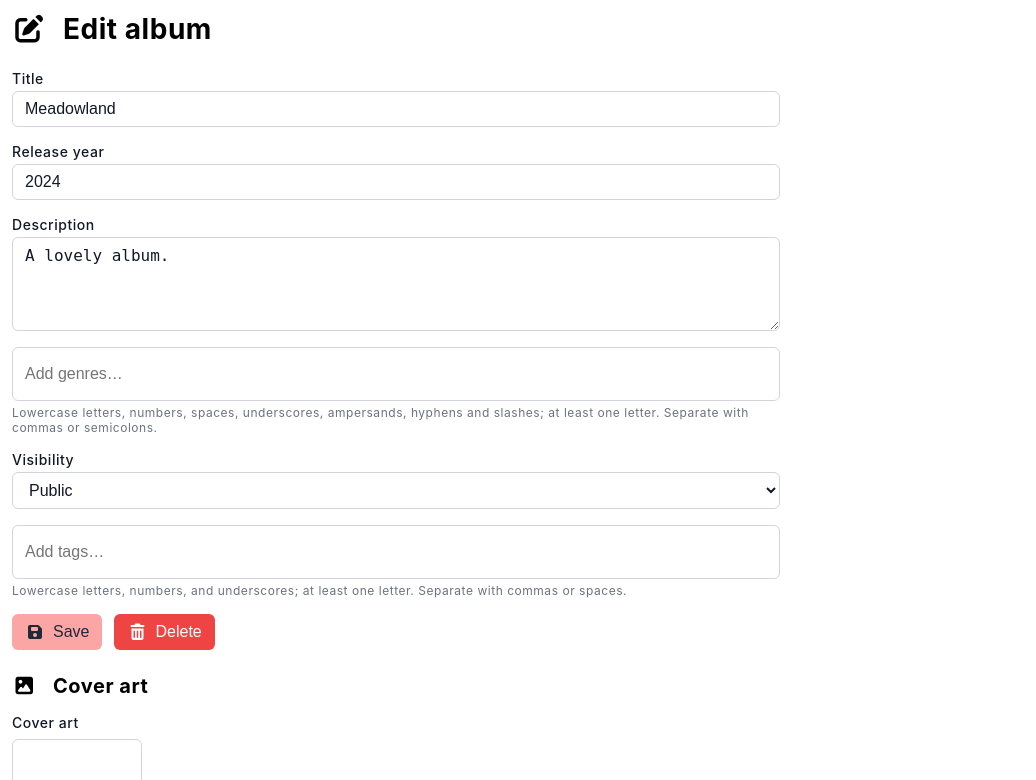
Test: AlbumEditView › surfaces save errors inline
The width and height of the screenshot is (1036, 780).
Replace the text in the field labelled "Title" with "Meadowland Updated" at (396, 109), box [12,91,780,127]
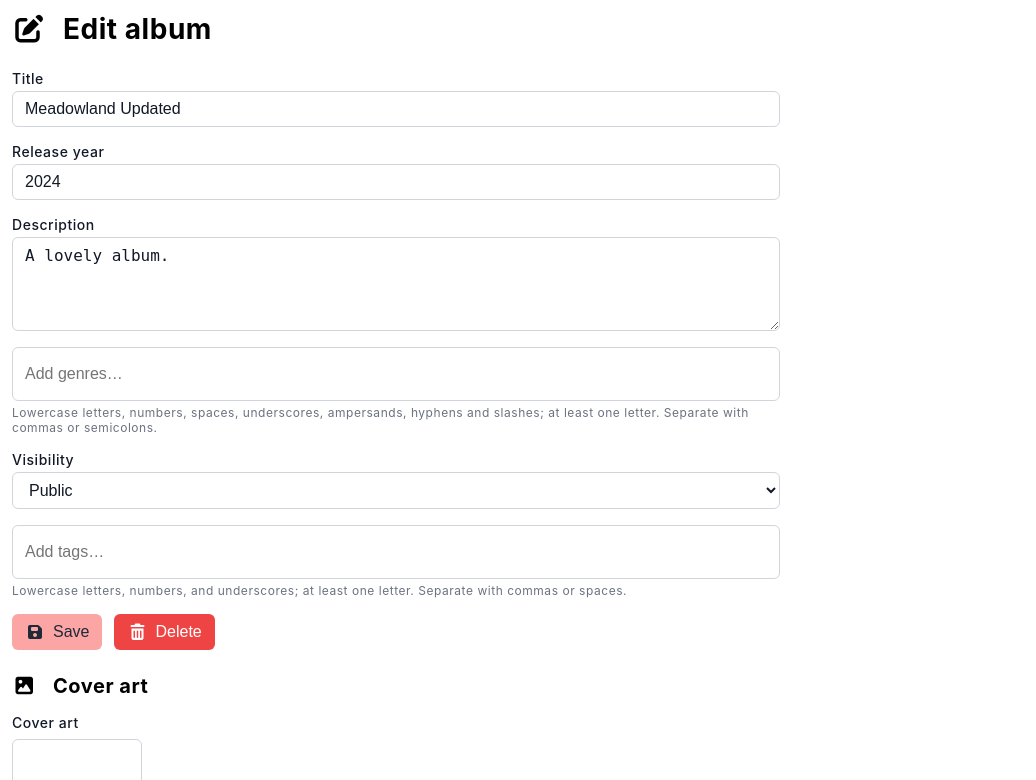
Click the button "Save" at (57, 632), box [12,614,102,650]
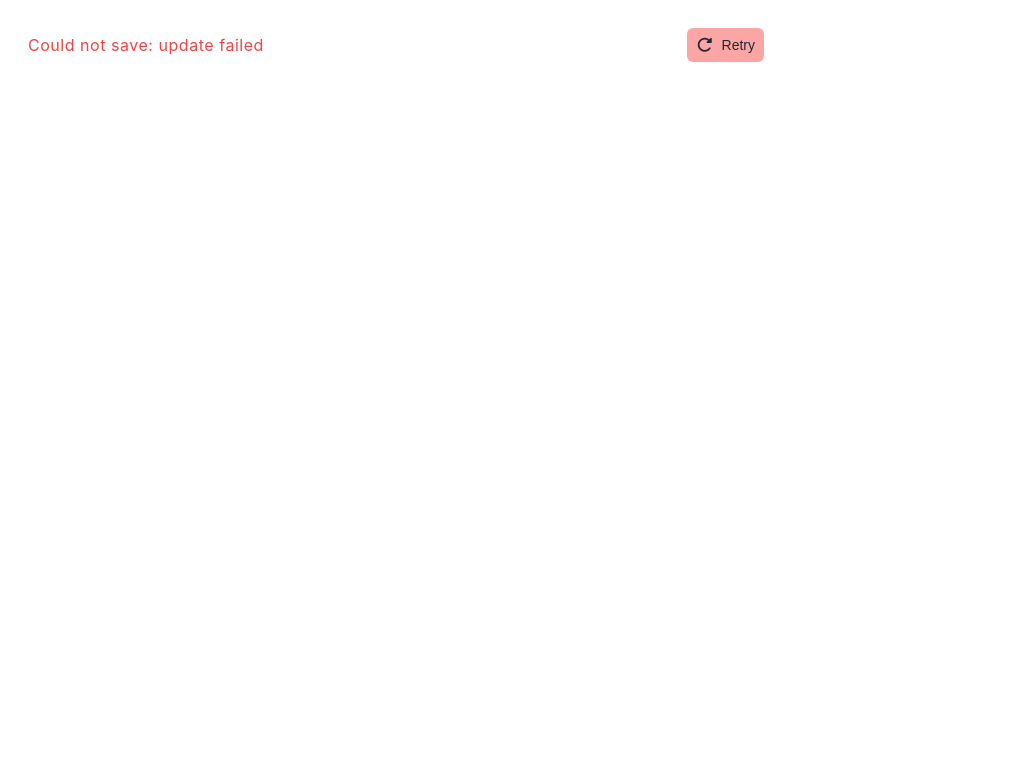
Now the text "update failed" is shown, box [28,35,264,55]
